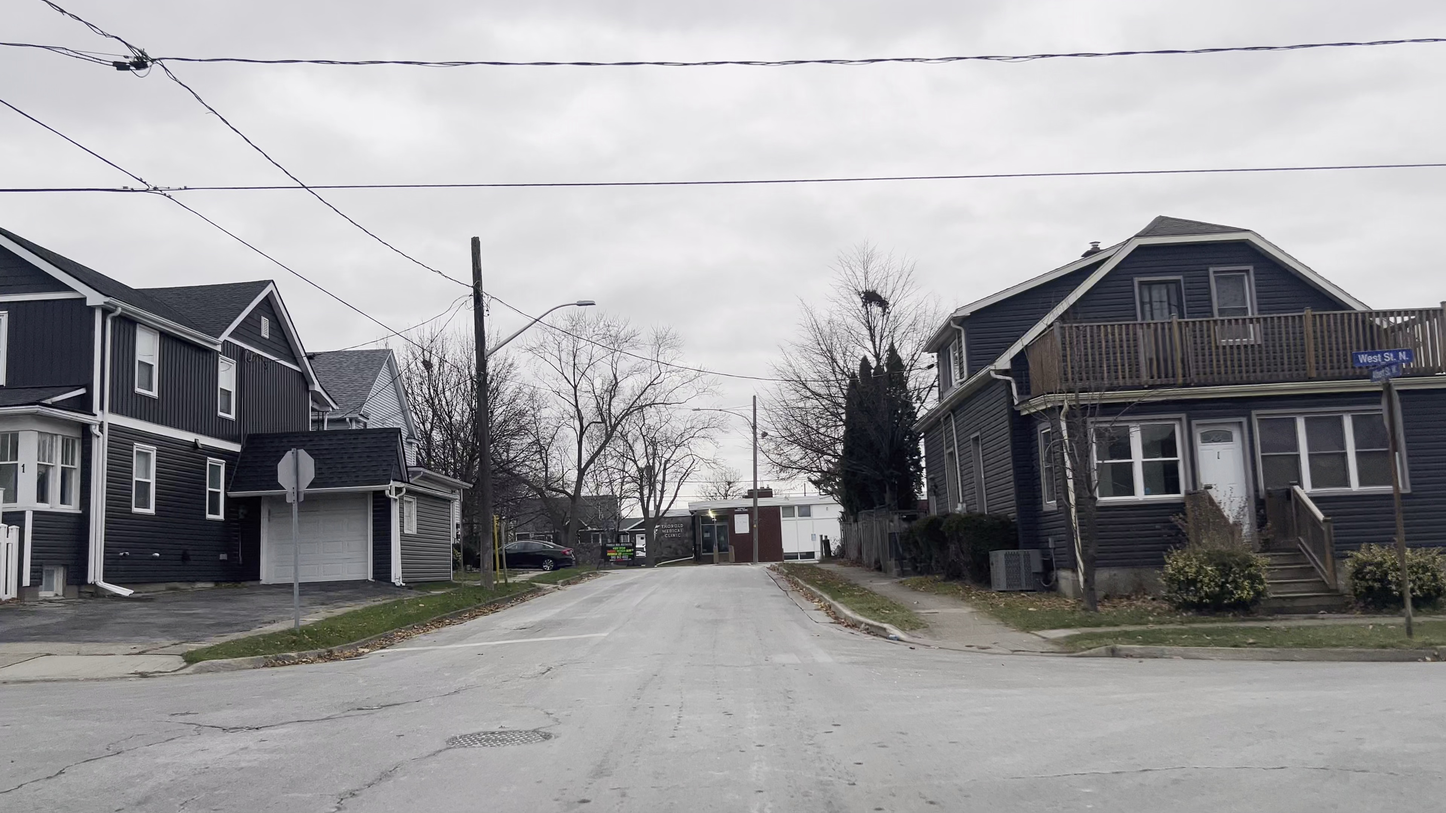cracks: (185, 699, 426, 744)
